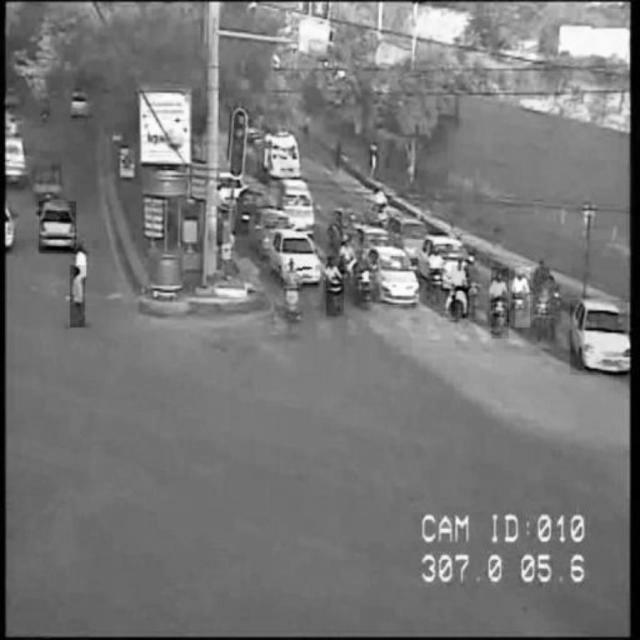person: (71, 266, 86, 328)
vehicle: (570, 301, 628, 375), (275, 227, 320, 287), (375, 247, 419, 307), (39, 202, 76, 254), (492, 268, 509, 339), (285, 260, 302, 324), (327, 257, 344, 317), (452, 265, 469, 319), (515, 267, 530, 327)
